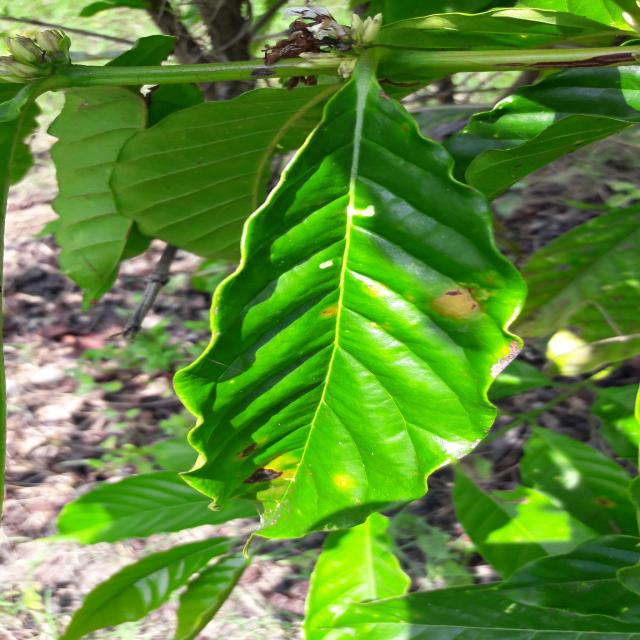Enfermedad-Roya: (174, 66, 524, 547)
